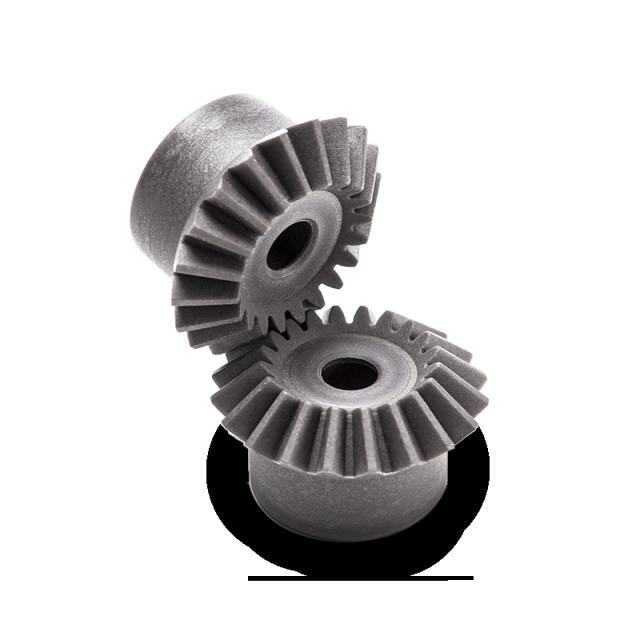Gear: (206, 302, 492, 546), (126, 90, 384, 358)
